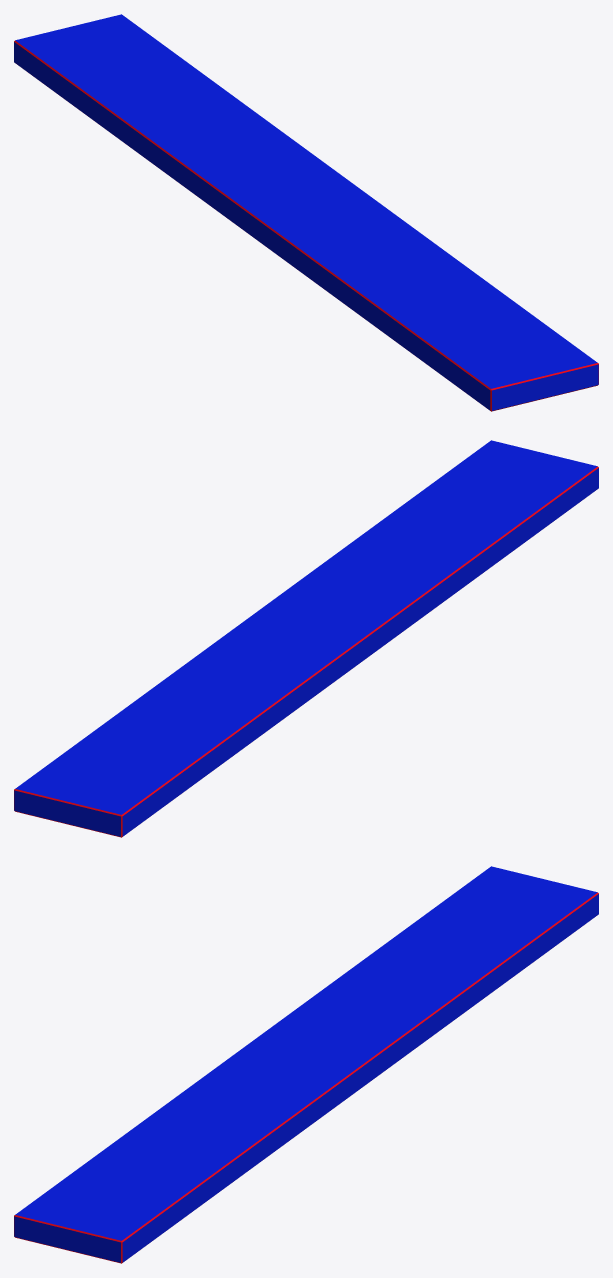
File: L14_Long_Platform.fbx
3 renders of one model, top to bottom at view 1: azimuth 30°, elevation 25°; view 2: azimuth 150°, elevation 25°; view 3: azimuth 330°, elevation 25°, orthographic.
Parts seen in each view (by area): view 1: L14_Long_Platform; view 2: L14_Long_Platform; view 3: L14_Long_Platform.
Boxes of the visible parts, x1=… form: L14_Long_Platform: x1=14, y1=14, x2=598, y2=411; L14_Long_Platform: x1=14, y1=440, x2=598, y2=837; L14_Long_Platform: x1=14, y1=866, x2=598, y2=1263.
Bounding box in the file's own units: 500 × 100 × 3800.
